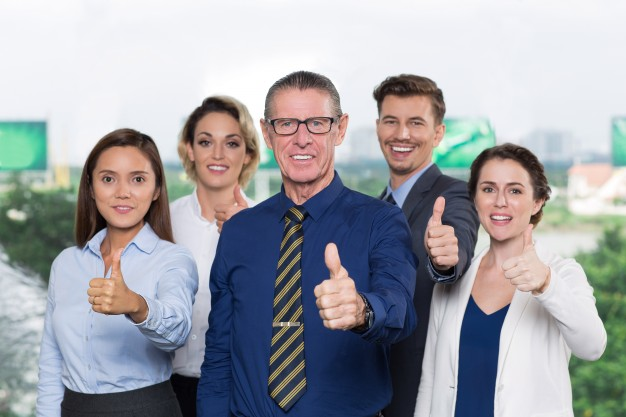thumbsup: (313, 242, 358, 329), (87, 247, 124, 314), (427, 195, 459, 267), (501, 223, 534, 292), (214, 186, 241, 234)
